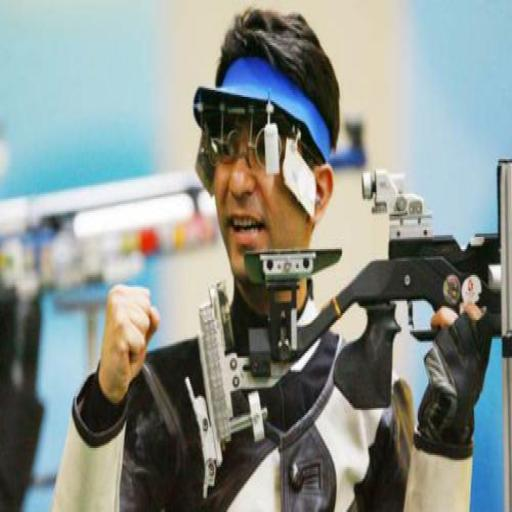shooting: (48, 7, 497, 510)
